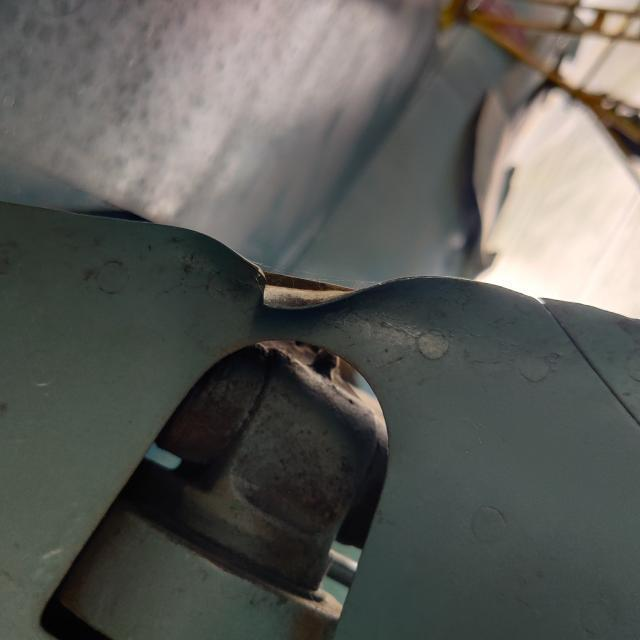Crack: (252, 265, 355, 314)
